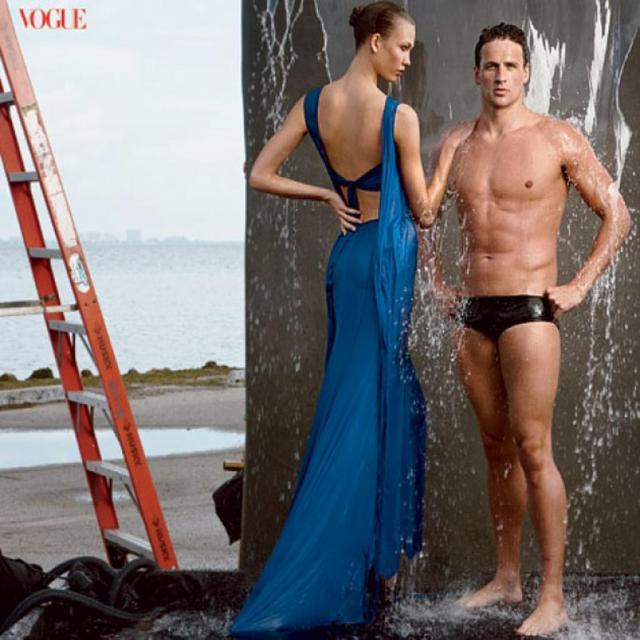nomask: (478, 45, 524, 103), (382, 24, 417, 83)
